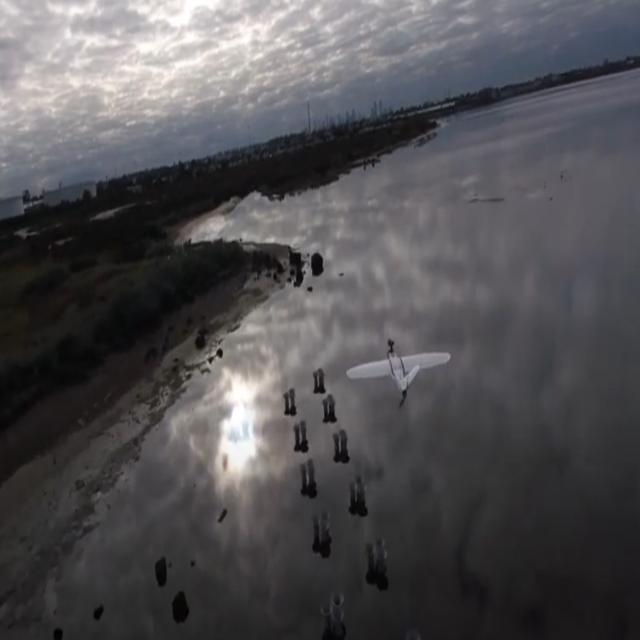iha: (375, 372, 418, 376)
